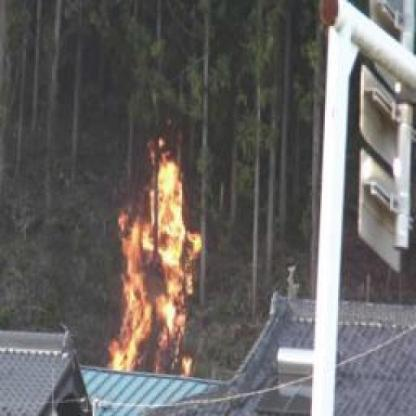fire: (102, 128, 205, 378)
